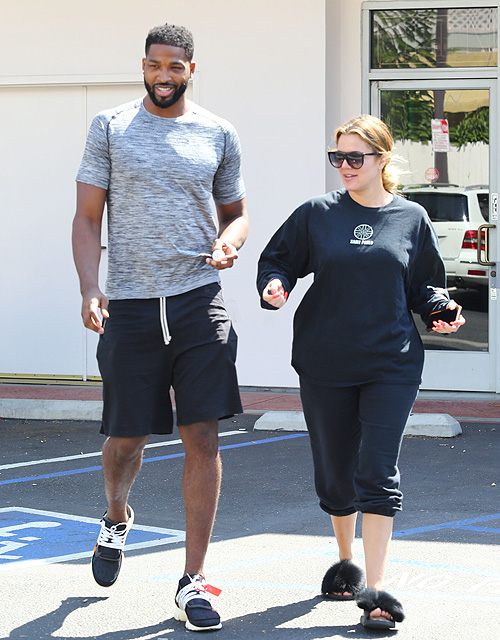Person: (69, 29, 250, 629), (259, 110, 462, 624)
